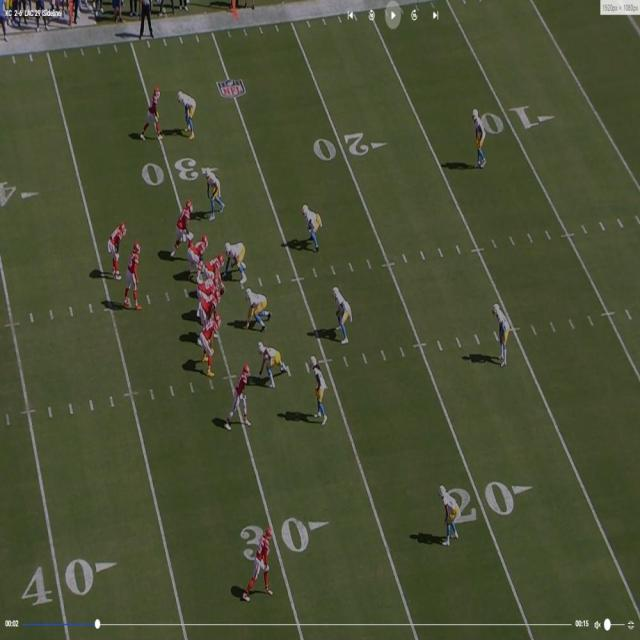center: (204, 252, 224, 278)
db: (495, 300, 512, 362), (443, 486, 462, 538), (474, 108, 487, 168), (179, 90, 195, 134)
lb: (335, 284, 352, 344), (310, 357, 325, 422), (205, 165, 224, 216), (303, 205, 318, 252)
qb: (125, 242, 143, 306)
skill: (250, 527, 271, 595), (201, 319, 220, 381), (230, 366, 250, 424), (107, 224, 124, 284), (143, 90, 161, 139)
